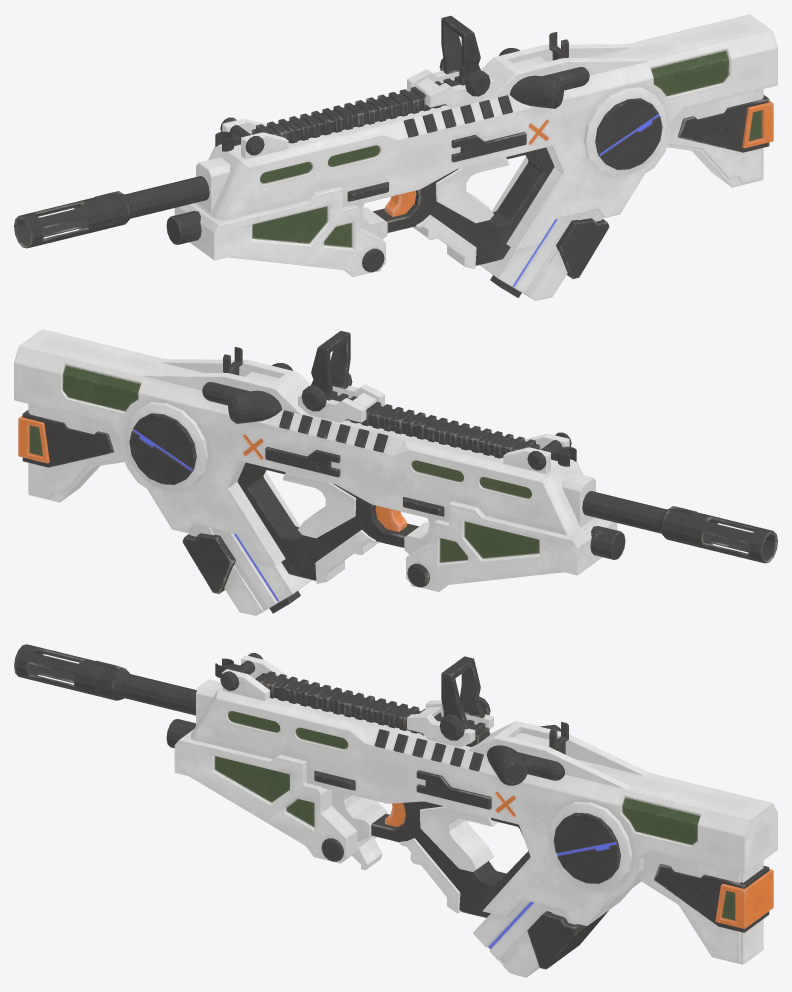
Rendered from ar32_phoenix_compressed.glb.
3 views of the same model, one above another, from view 1: azimuth 30°, elevation 25°; view 2: azimuth 150°, elevation 25°; view 3: azimuth 330°, elevation 25° (orthographic).
Visible parts, largest first — view 1: gun_v05; view 2: gun_v05; view 3: gun_v05.
Boxes of the visible parts, x1=… form: gun_v05: x1=14, y1=14, x2=777, y2=300; gun_v05: x1=14, y1=329, x2=777, y2=615; gun_v05: x1=14, y1=644, x2=777, y2=977.
Size of the model in its own units: 3.07 by 1.13 by 0.3943.
1 material, 1 textured.
